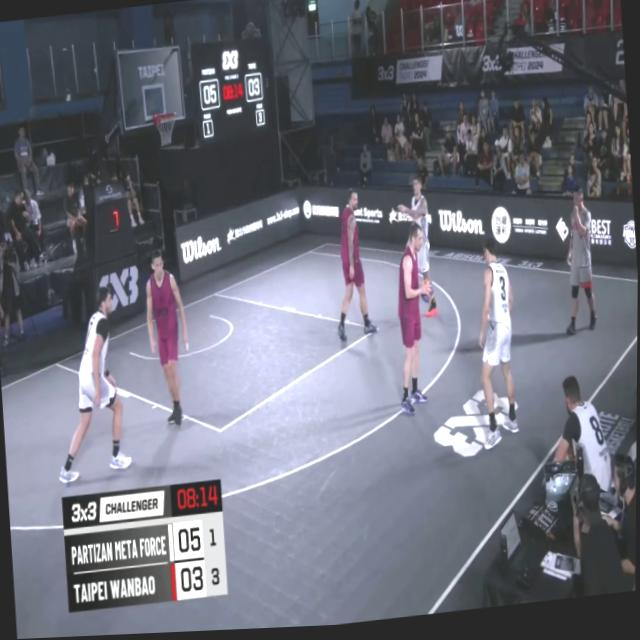ball: (416, 282, 438, 313)
hoop: (149, 107, 178, 152)
player: (45, 278, 138, 492), (470, 240, 523, 450), (142, 247, 194, 432), (391, 227, 439, 419), (325, 187, 375, 343), (392, 171, 439, 325)
